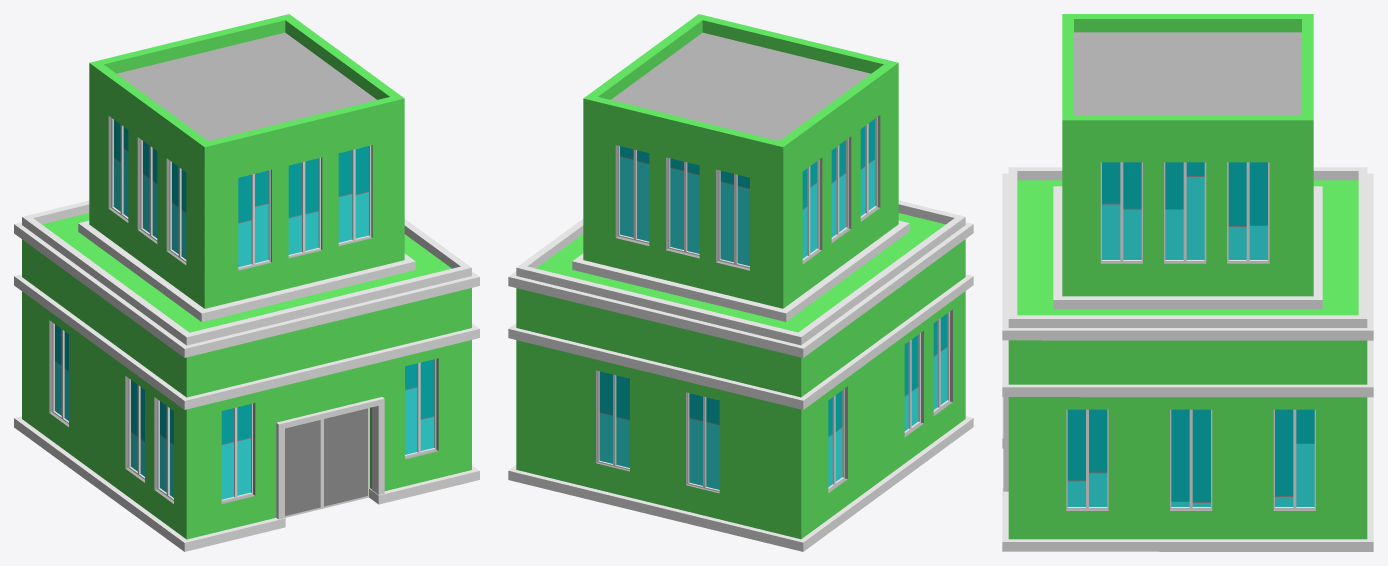
The model's file is SM_House_21_03.FBX.
3 views of the same model, side by side, from view 1: azimuth 30°, elevation 25°; view 2: azimuth 150°, elevation 25°; view 3: azimuth 270°, elevation 25° (orthographic). The views are drawn at different scales.
Visible parts, largest first — view 1: SM_House_21_03; view 2: SM_House_21_03; view 3: SM_House_21_03.
Part boxes in pixels (left/top/right/bottom): SM_House_21_03: left=14, top=14, right=479, bottom=551; SM_House_21_03: left=508, top=14, right=973, bottom=551; SM_House_21_03: left=1002, top=14, right=1373, bottom=551.
Bounding box in the file's own units: 6.21 × 7.5 × 6.21.
Materials: 1 (1 with a texture image).
